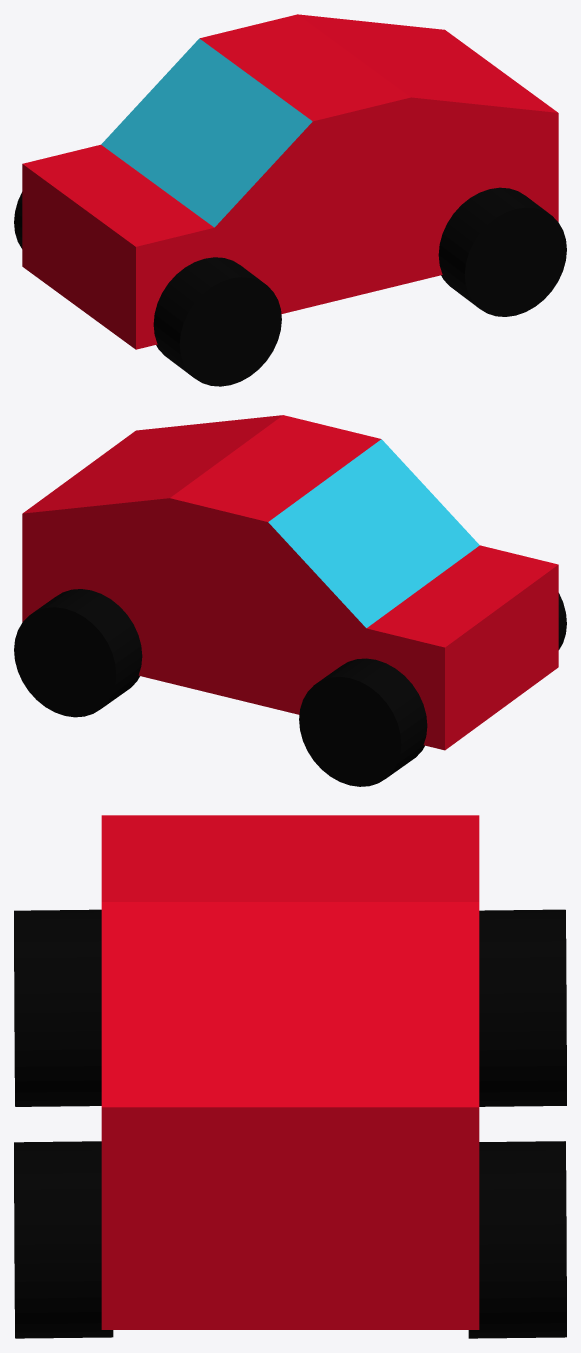
The model's file is Car.fbx.
3 views of the same model, one above another, from view 1: azimuth 30°, elevation 25°; view 2: azimuth 150°, elevation 25°; view 3: azimuth 270°, elevation 25° (orthographic). The views are drawn at different scales.
Parts seen in each view (by area): view 1: Cube; view 2: Cube; view 3: Cube.
Boxes of the visible parts, box(x1,y1,x2,y2) form: Cube: box(14, 14, 566, 386); Cube: box(14, 415, 566, 786); Cube: box(14, 815, 566, 1338).
Bounding box in the file's own units: 430 × 212 × 293.
